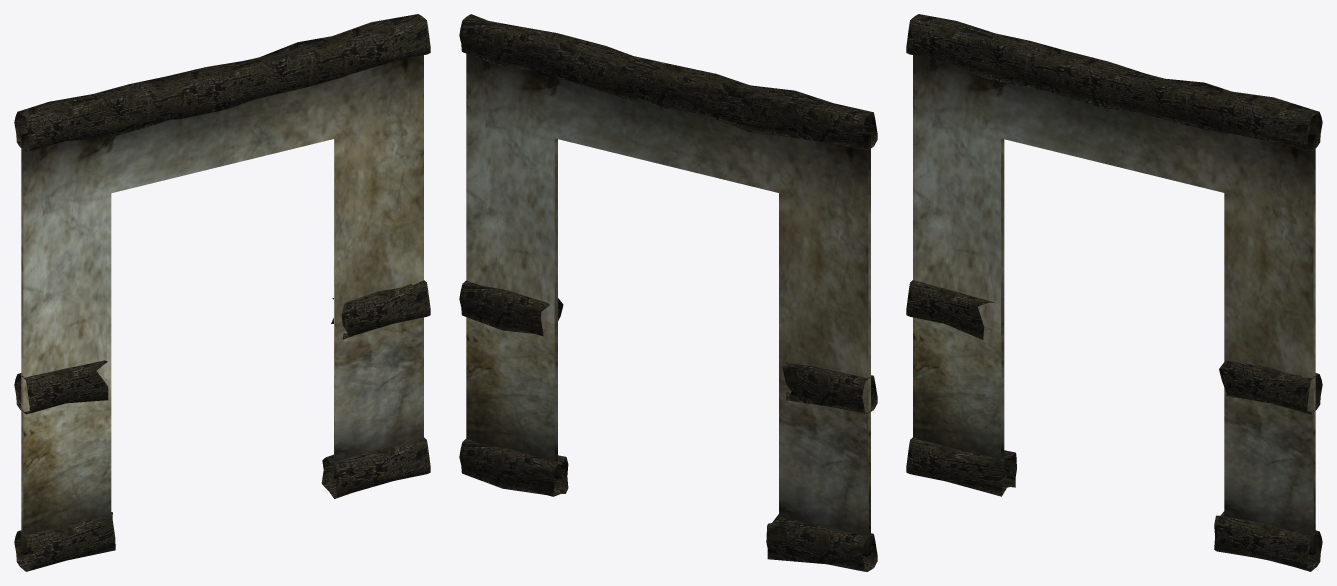
Rendered from door_way01.DAE.
3 renders of one model, left to right at view 1: azimuth 30°, elevation 25°; view 2: azimuth 150°, elevation 25°; view 3: azimuth 330°, elevation 25°, orthographic.
Visible parts, largest first — view 1: Box002, Object003; view 2: Box002, Object003; view 3: Box002, Object003.
Part boxes in pixels (x1,y1,x2,y2): Box002: [21, 55, 423, 555]; Object003: [14, 14, 430, 571]; Box002: [466, 53, 870, 556]; Object003: [459, 14, 877, 571]; Box002: [913, 55, 1315, 555]; Object003: [906, 14, 1322, 571].
Bounding box in the file's own units: 4.01 × 0.3718 × 4.39.
